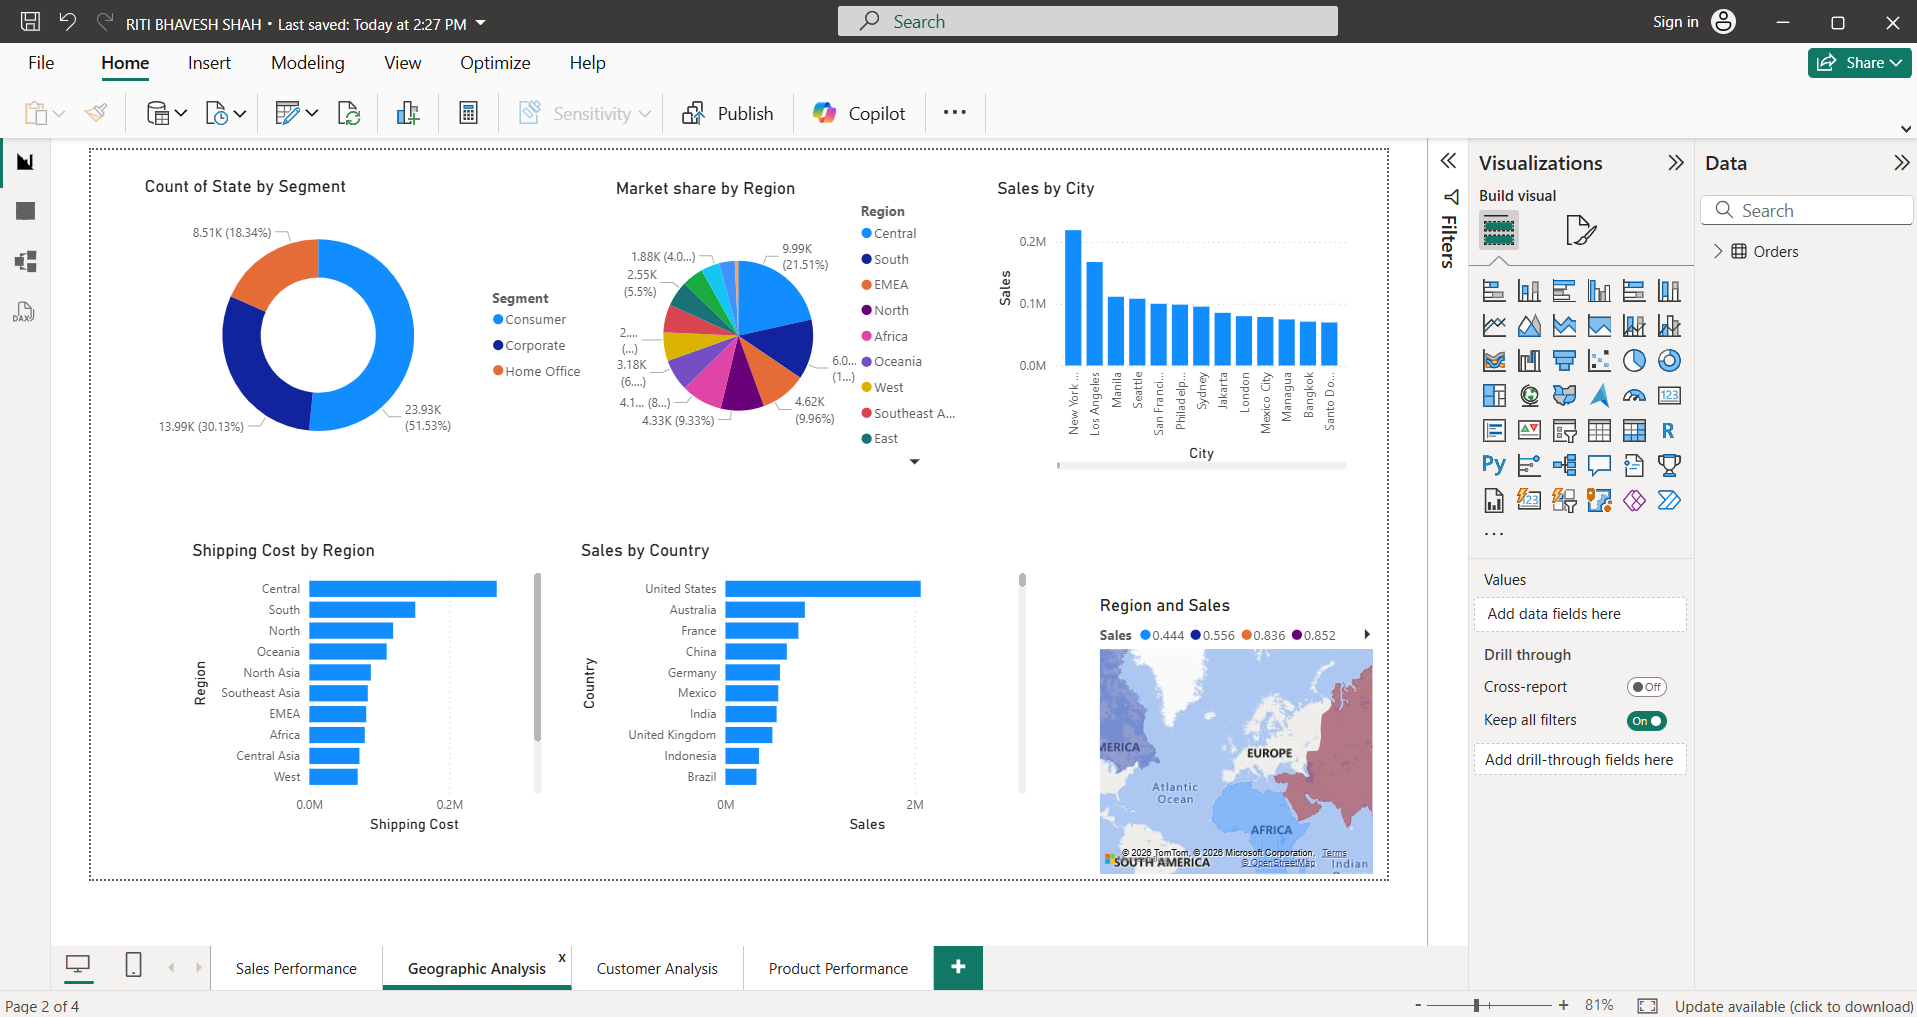

Layout of this report page (visuals, bound fields, positions):
{"tool":"powerbi","page":{"name":"Geographic Analysis ","canvas":[1280,720],"ordinal":1},"visuals":[{"type":"filledMap","fields":{"Category":["Orders.Region"],"Series":["Orders.Sales"]},"box":[991.9,439.2,279.3,280.4],"z":0},{"type":"barChart","fields":{"Category":["Orders.Country"],"Y":["Sum(Orders.Sales)"]},"box":[478.9,385.6,450.1,293.7],"z":1000},{"type":"columnChart","fields":{"Category":["Orders.City"],"Y":["Sum(Orders.Sales)"]},"box":[890.6,27.4,355.4,293.7],"z":2000},{"type":"barChart","fields":{"Y":["Sum(Orders.Shipping Cost)"],"Category":["Orders.Region"]},"box":[94.7,385.6,355.4,293.7],"z":3000},{"type":"donutChart","fields":{"Category":["Orders.Segment"],"Y":["CountNonNull(Orders.State)"]},"box":[48,26.1,450.1,295],"z":4000},{"type":"pieChart","fields":{"Category":["Orders.Region"],"Y":["CountNonNull(Orders.Market)"]},"box":[513.2,27.4,356.8,293.7],"z":5000}]}

Visuals, with their boxes on the page's 1280x720 design canvas (x1, y1, x2, y2). These are canvas units, not pixel positions in the 1917x1017 screenshot, which may show the page scaled, cropped or inside an application window:
filledMap - Orders.Region x Orders.Sales: (992,439,1271,720)
barChart - Orders.Country x Sum(Orders.Sales): (479,386,929,679)
columnChart - Orders.City x Sum(Orders.Sales): (891,27,1246,321)
barChart - Sum(Orders.Shipping Cost) x Orders.Region: (95,386,450,679)
donutChart - Orders.Segment x CountNonNull(Orders.State): (48,26,498,321)
pieChart - Orders.Region x CountNonNull(Orders.Market): (513,27,870,321)
